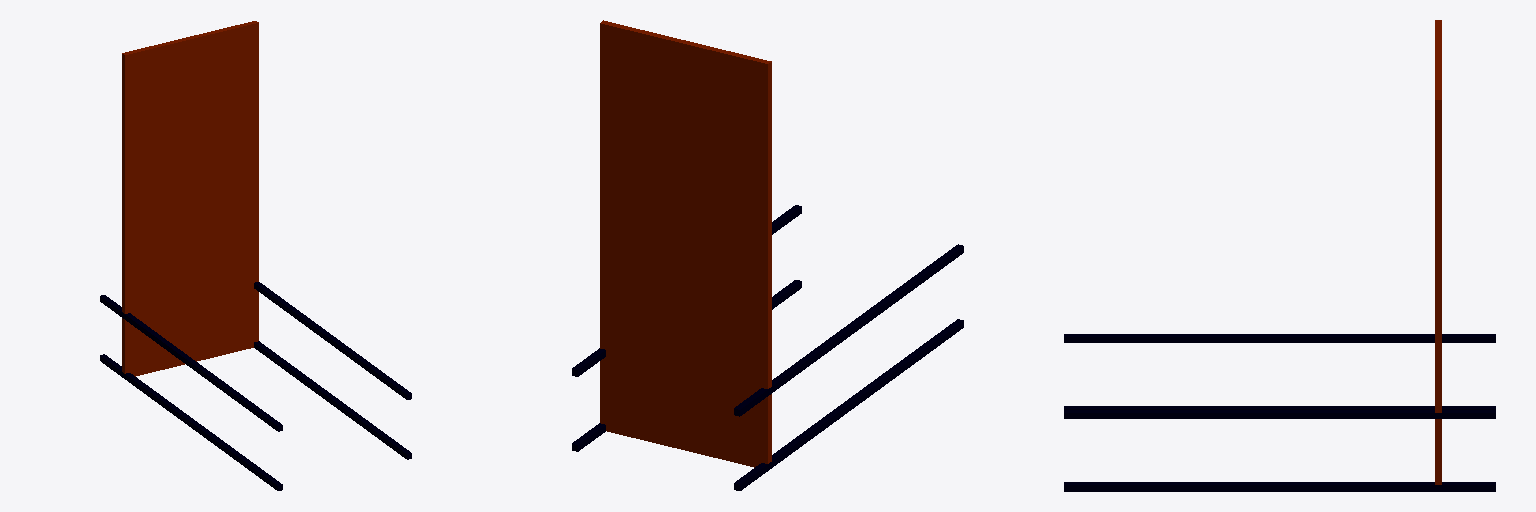
robot.urdf — pallet_rack:
<?xml version="1.0"?>
<robot name="pallet_rack">

  <material name="rack_blue"><color rgba="0.0 0.2 0.6 1.0"/></material>
  <material name="rack_orange"><color rgba="1.0 0.4 0.0 1.0"/></material>

  <link name="rack_base">
    
    <inertial>
      <mass value="100.0"/>
      <origin xyz="0 0 0.1" rpy="0 0 0"/>
      <inertia ixx="45.0" ixy="0.0" ixz="0.0" iyy="45.0" iyz="0.0" izz="5.0"/>
    </inertial>

    <visual><origin xyz="0 0 0" rpy="0 0 0"/><geometry><mesh filename="poll1.dae"/></geometry></visual>
    <collision><origin xyz="0 0 0" rpy="0 0 0"/><geometry><mesh filename="poll1.dae"/></geometry></collision>

    <visual><origin xyz="0 0 0" rpy="0 0 0"/><geometry><mesh filename="poll2.dae"/></geometry></visual>
    <collision><origin xyz="0 0 0" rpy="0 0 0"/><geometry><mesh filename="poll2.dae"/></geometry></collision>

    <visual><origin xyz="0 0 0" rpy="0 0 0"/><geometry><mesh filename="poll3.dae"/></geometry></visual>
    <collision><origin xyz="0 0 0" rpy="0 0 0"/><geometry><mesh filename="poll3.dae"/></geometry></collision>

    <visual><origin xyz="0 0 0" rpy="0 0 0"/><geometry><mesh filename="poll4.dae"/></geometry></visual>
    <collision><origin xyz="0 0 0" rpy="0 0 0"/><geometry><mesh filename="poll4.dae"/></geometry></collision>

    <visual><origin xyz="0 0 0" rpy="0 0 0"/><geometry><mesh filename="base1.dae"/></geometry></visual>
    <collision><origin xyz="0 0 0" rpy="0 0 0"/><geometry><mesh filename="base1.dae"/></geometry></collision>

    <visual><origin xyz="0 0 0.6" rpy="0 0 0"/><geometry><mesh filename="base1.dae"/></geometry></visual>
    <collision><origin xyz="0 0 0.6" rpy="0 0 0"/><geometry><mesh filename="base1.dae"/></geometry></collision>

    <visual><origin xyz="0 0 1.2" rpy="0 0 0"/><geometry><mesh filename="base1.dae"/></geometry></visual>
    <collision><origin xyz="0 0 1.2" rpy="0 0 0"/><geometry><mesh filename="base1.dae"/></geometry></collision>

    <visual><origin xyz="0 0 1.8" rpy="0 0 0"/><geometry><mesh filename="base1.dae"/></geometry></visual>
    <collision><origin xyz="0 0 1.8" rpy="0 0 0"/><geometry><mesh filename="base1.dae"/></geometry></collision>

    <visual><origin xyz="0 0 2.4" rpy="0 0 0"/><geometry><mesh filename="base1.dae"/></geometry></visual>
    <collision><origin xyz="0 0 2.4" rpy="0 0 0"/><geometry><mesh filename="base1.dae"/></geometry></collision>

  </link>
</robot>

--- What the picture shows (computed from the rendered views, not written in the file) ---
The picture shows the robot from 3 angles, left to right: view 1: azimuth 30°, elevation 25°; view 2: azimuth 150°, elevation 25°; view 3: azimuth 270°, elevation 25°; orthographic projection.
Robot: pallet_rack — 1 links, 0 joints (none); root link rack_base; default pose: every joint at zero.
Visible links, largest first — view 1: rack_base; view 2: rack_base; view 3: rack_base.
Link boxes in pixels (x1,y1,x2,y2): rack_base: (100, 21, 411, 490); rack_base: (572, 20, 963, 490); rack_base: (1064, 20, 1495, 491).
Bounding box of the posed robot: 1.3 × 3 × 3 m (x, y, z).
Meshes: 5 distinct files referenced, 9 mesh visuals loaded (5 Collada DAE).
